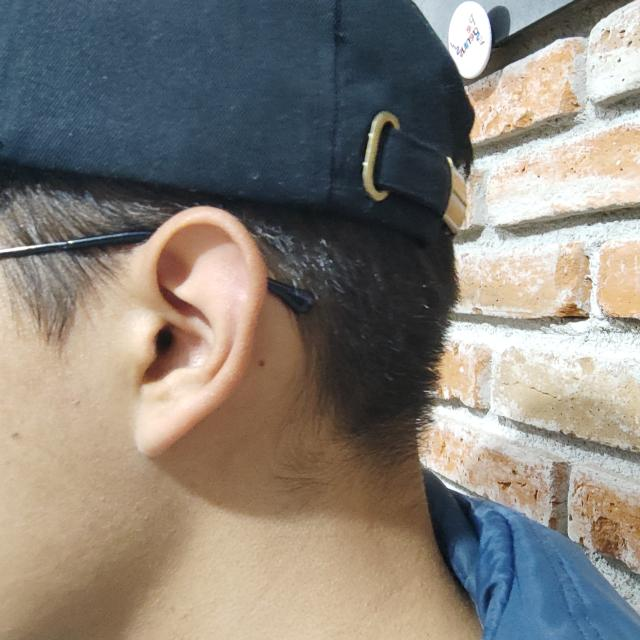ear: (110, 206, 266, 458)
